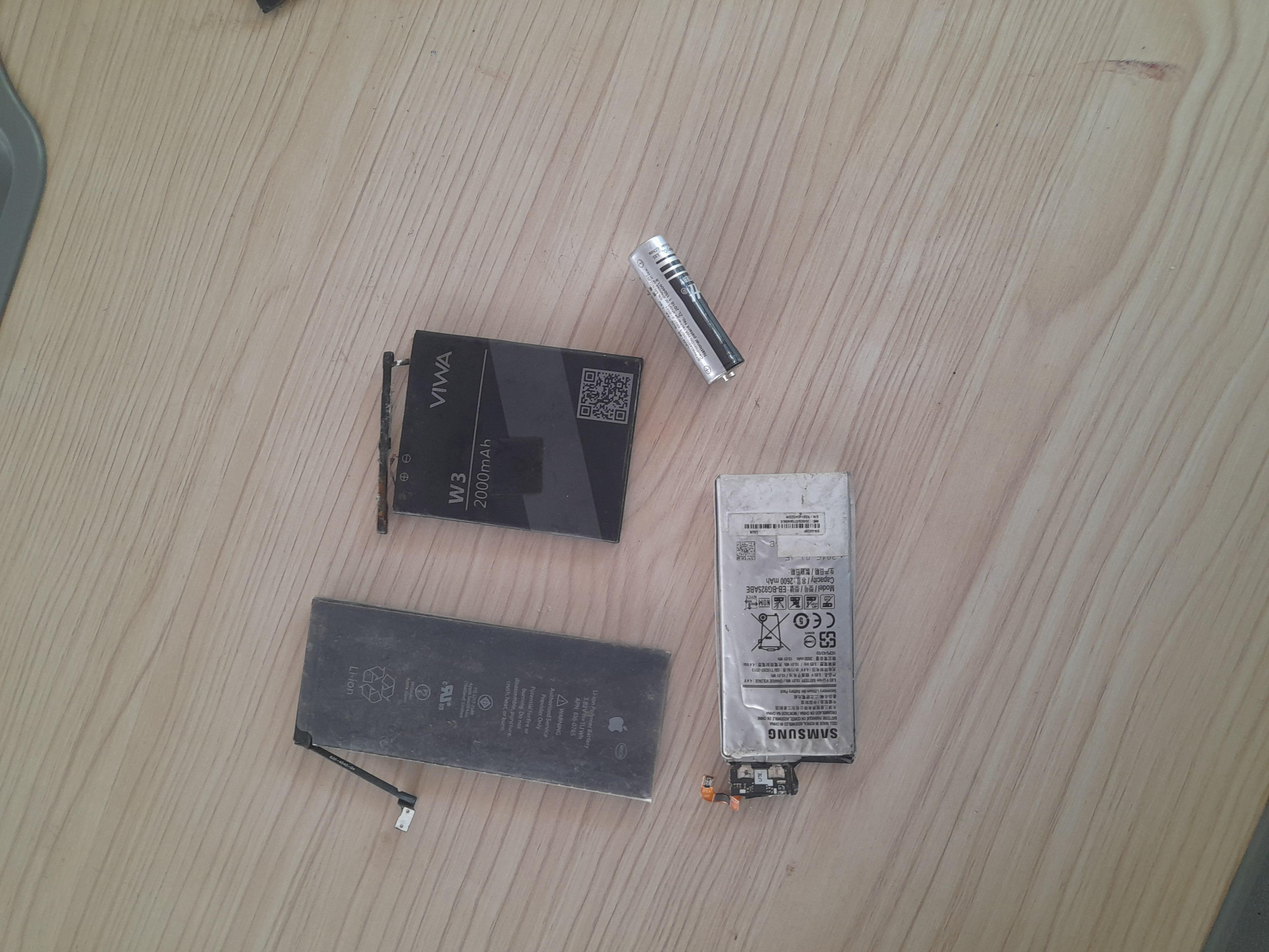AA: (622, 225, 761, 403)
